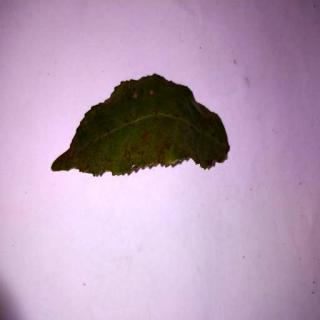Bird Eye Spot: (51, 75, 231, 179)
